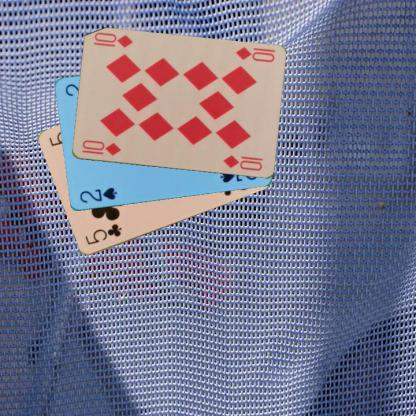10d: (233, 44, 276, 64), (79, 138, 122, 157)
2s: (77, 185, 118, 204)
5c: (82, 221, 123, 246)
